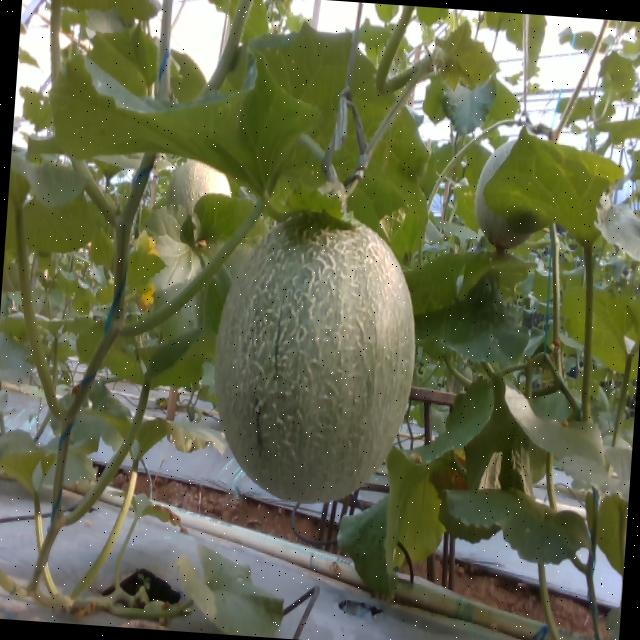melon: (215, 214, 415, 503)
